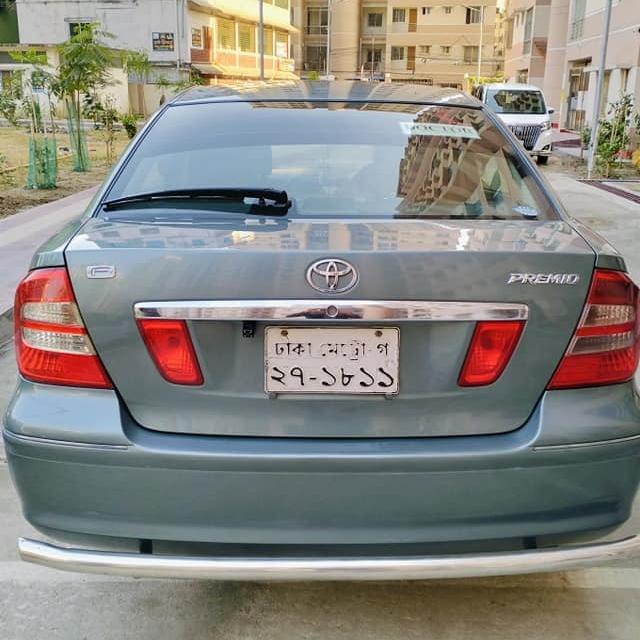Number-Plate: (261, 322, 405, 397)
